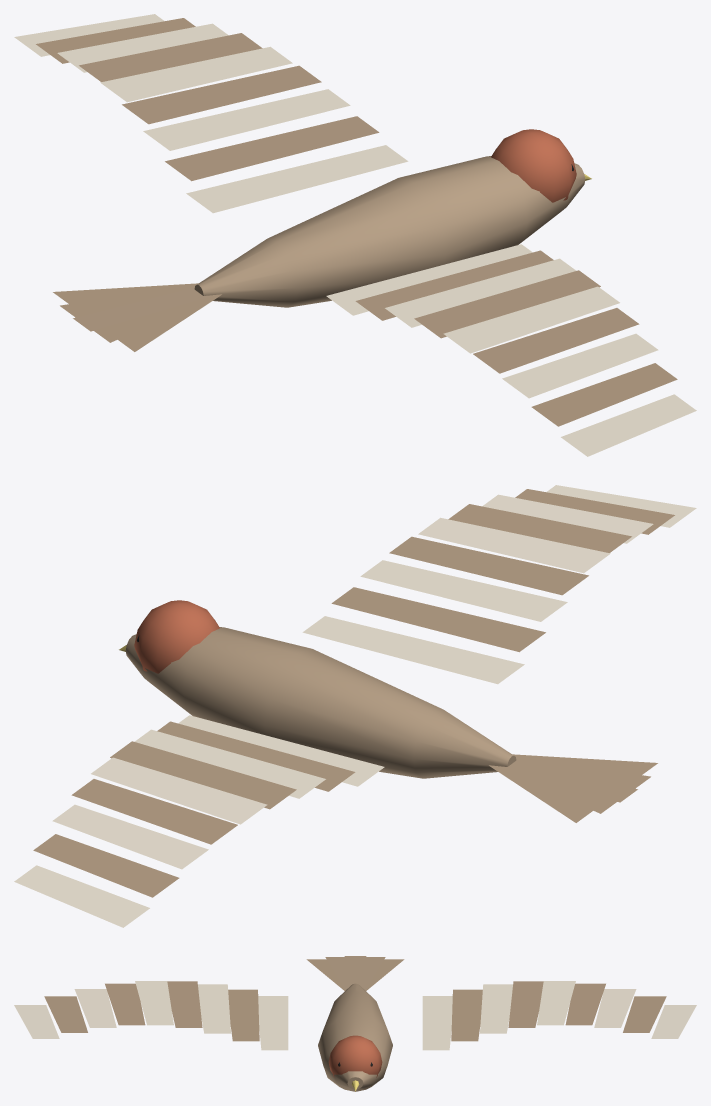
File: SM_FalconDrone.fbx
3 views of the same model, one above another, from view 1: azimuth 30°, elevation 25°; view 2: azimuth 150°, elevation 25°; view 3: azimuth 270°, elevation 25° (orthographic). The views are drawn at different scales.
Visible parts, largest first — view 1: SM_FalconDrone; view 2: SM_FalconDrone; view 3: SM_FalconDrone.
Boxes of the visible parts, left/top/right/bottom form: SM_FalconDrone: left=14, top=14, right=696, bottom=456; SM_FalconDrone: left=14, top=485, right=696, bottom=927; SM_FalconDrone: left=14, top=956, right=696, bottom=1091.
Size of the model in its own units: 287 by 63.58 by 559.
